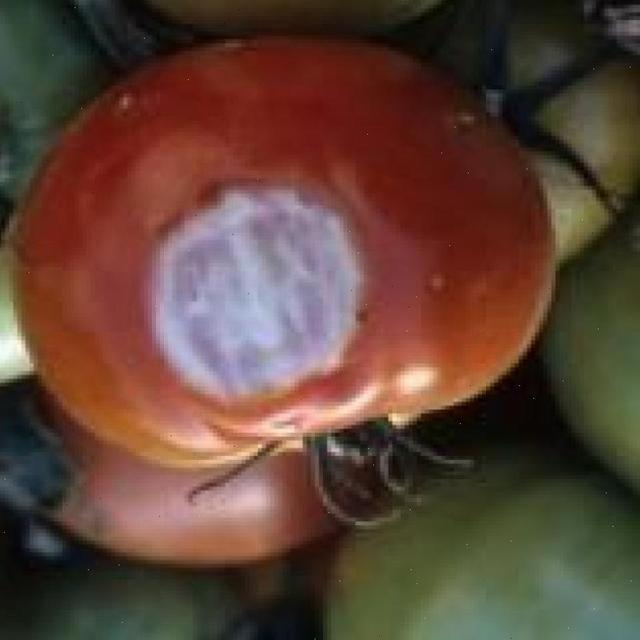Sunscald Fruit: (92, 116, 244, 276)
